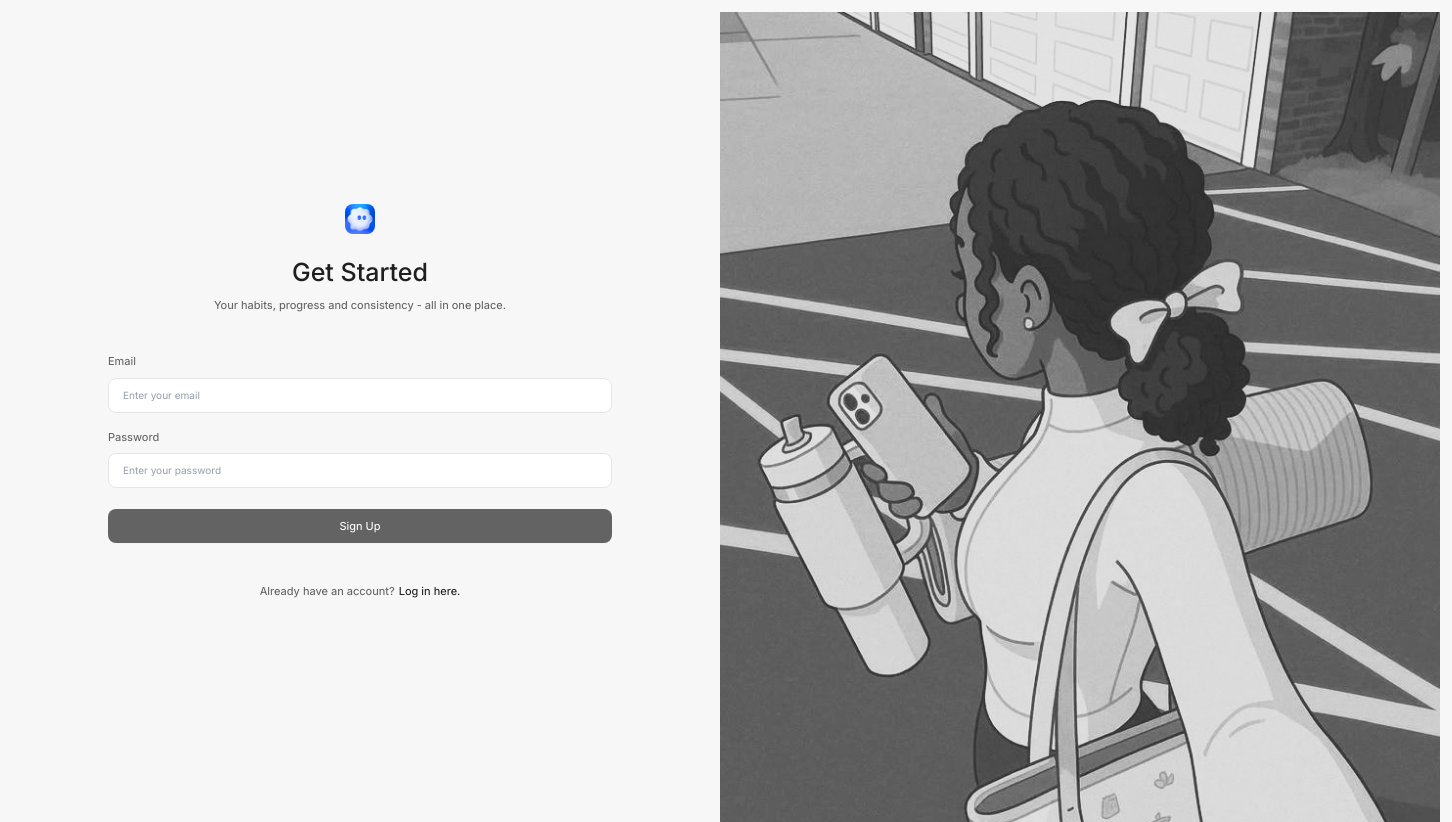
Test: auth flow › shows an error for duplicate signup email
Type "person@example.com" into the field with test id "auth-signup-email" at (360, 395), box x1=108 y1=378 x2=612 y2=413
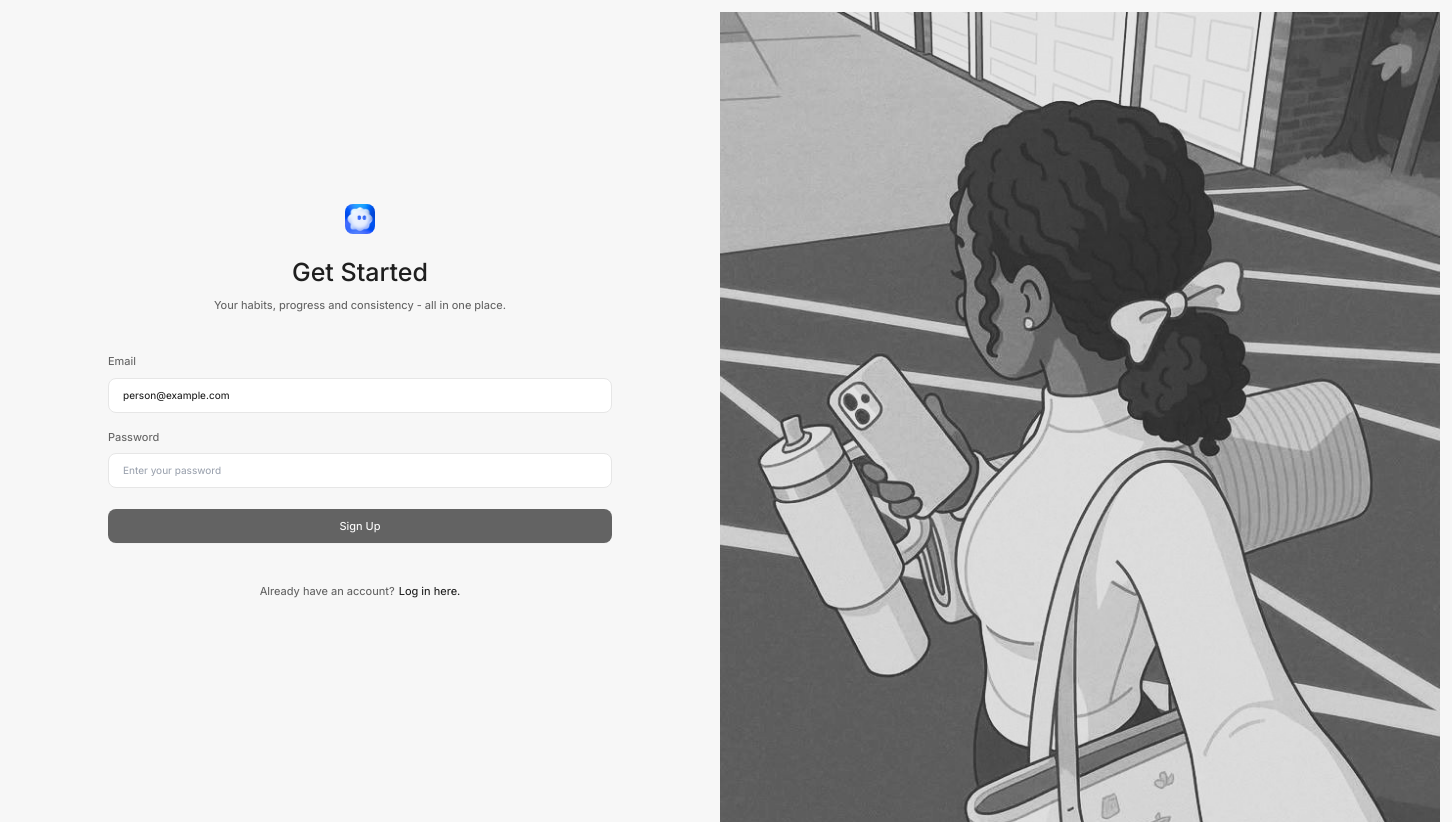
Type "secret123" into the password field with test id "auth-signup-password" at (360, 471), box x1=108 y1=453 x2=612 y2=488
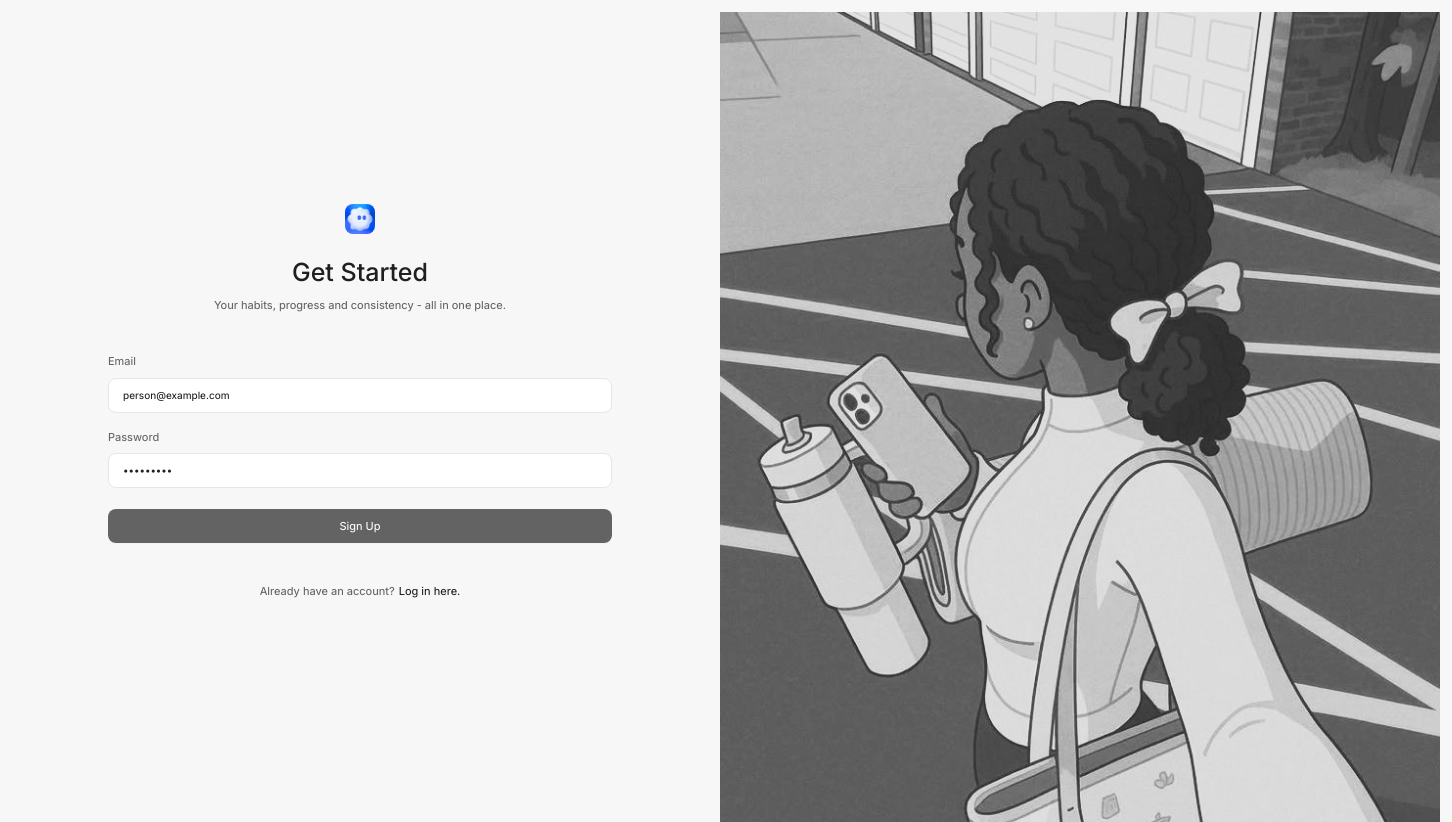
Click the button with test id "auth-signup-submit" at (360, 526), box x1=108 y1=509 x2=612 y2=543
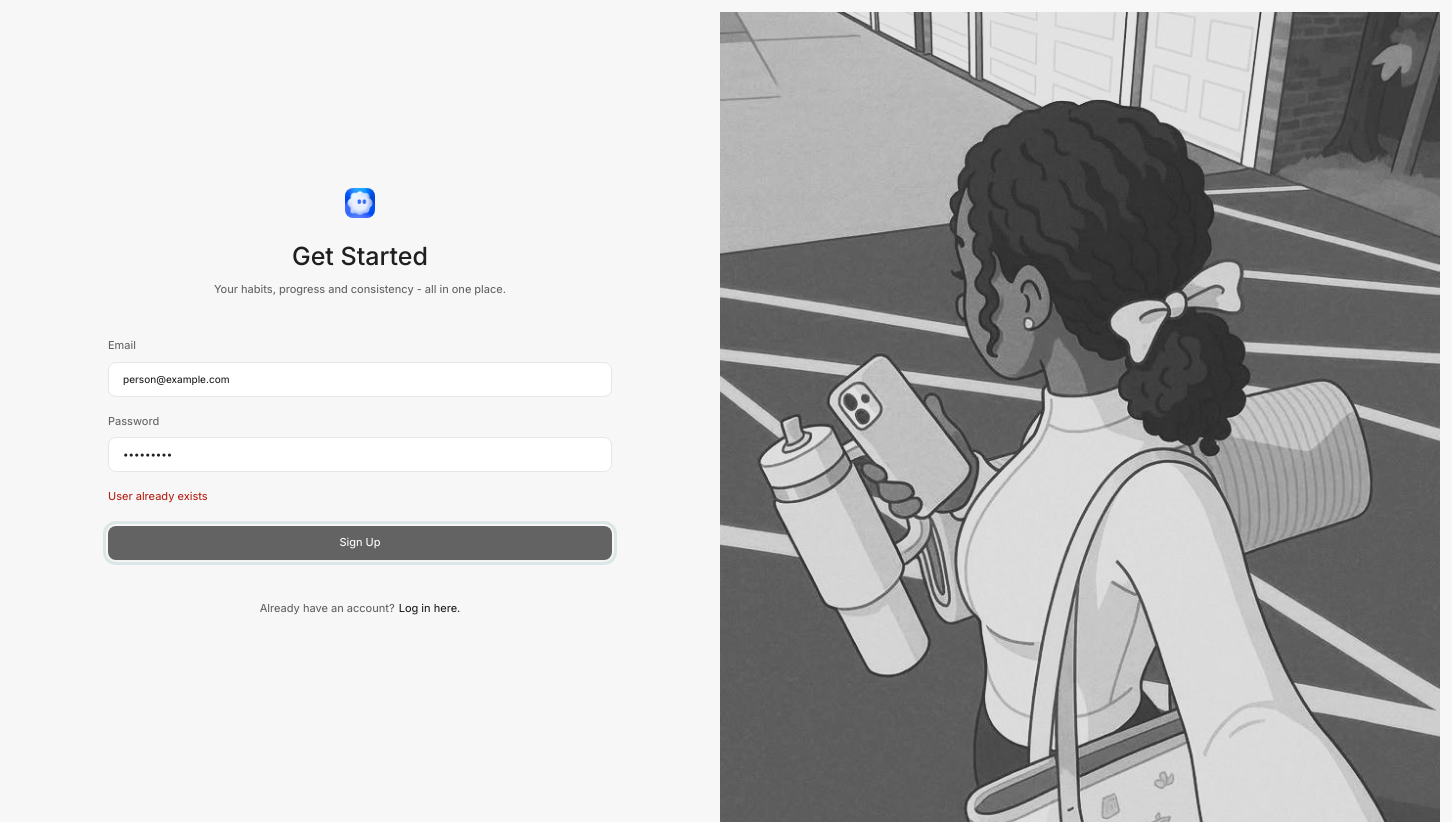
Now the text "User already exists" is shown, box x1=108 y1=489 x2=208 y2=503
